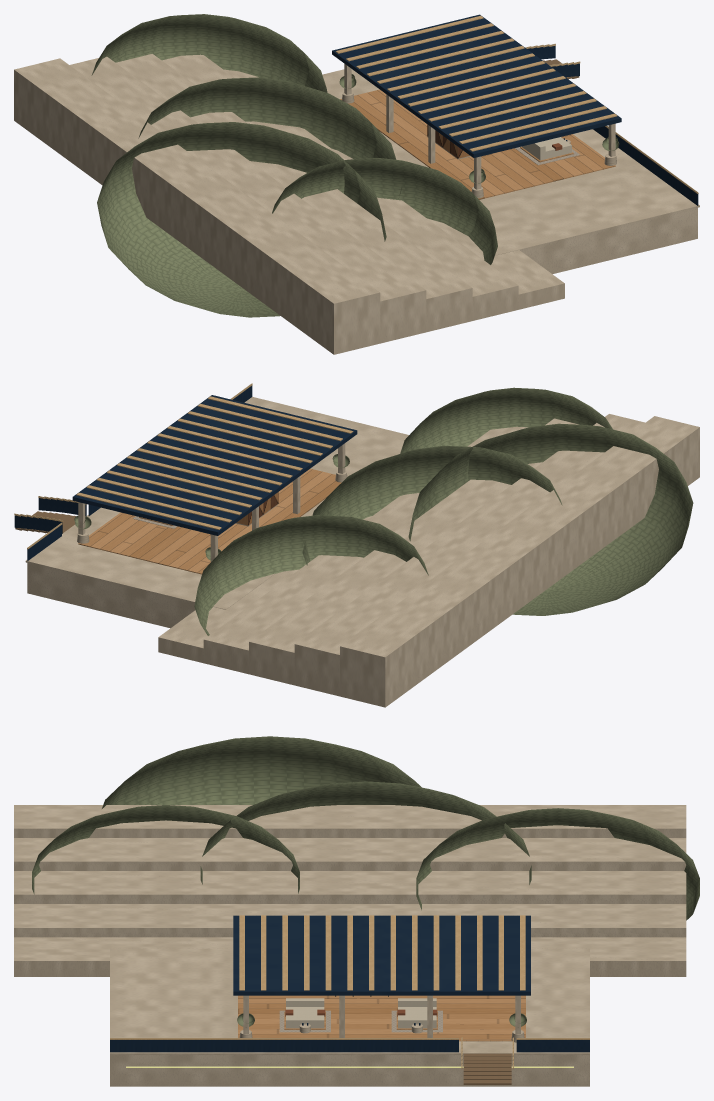
The model's file is yacht_club_lounge.glb.
3 views of the same model, one above another, from view 1: azimuth 30°, elevation 25°; view 2: azimuth 150°, elevation 25°; view 3: azimuth 270°, elevation 25° (orthographic). The views are drawn at different scales.
Visible parts, largest first — view 1: travertine, olive, hull, teak_frame, teak, glass, linen; view 2: travertine, olive, hull, teak_frame, teak, glass; view 3: travertine, olive, hull, teak, teak_frame, glass, linen, bronze, amber, rug.
Part boxes in pixels (left/top/right/bottom): travertine: left=14, top=54, right=699, bottom=354; olive: left=91, top=14, right=619, bottom=317; hull: left=332, top=14, right=621, bottom=157; teak_frame: left=335, top=15, right=698, bottom=193; teak: left=340, top=89, right=615, bottom=199; glass: left=527, top=46, right=698, bottom=205; linen: left=522, top=137, right=571, bottom=160; travertine: left=25, top=397, right=699, bottom=707; olive: left=74, top=387, right=693, bottom=635; hull: left=72, top=395, right=357, bottom=535; teak_frame: left=14, top=384, right=353, bottom=549; teak: left=78, top=468, right=341, bottom=574; glass: left=14, top=385, right=252, bottom=560; travertine: left=14, top=805, right=686, bottom=1086; olive: left=32, top=736, right=699, bottom=1027; hull: left=233, top=915, right=530, bottom=995; teak: left=238, top=995, right=525, bottom=1041; teak_frame: left=110, top=915, right=589, bottom=1069; glass: left=110, top=1023, right=589, bottom=1052; linen: left=286, top=998, right=436, bottom=1028; bronze: left=335, top=995, right=511, bottom=1084; amber: left=126, top=1066, right=573, bottom=1067; rug: left=279, top=1010, right=442, bottom=1032.
Bounding box in the file's own units: 41.56 × 10.4 × 42.86.
14 materials, 14 textured.
